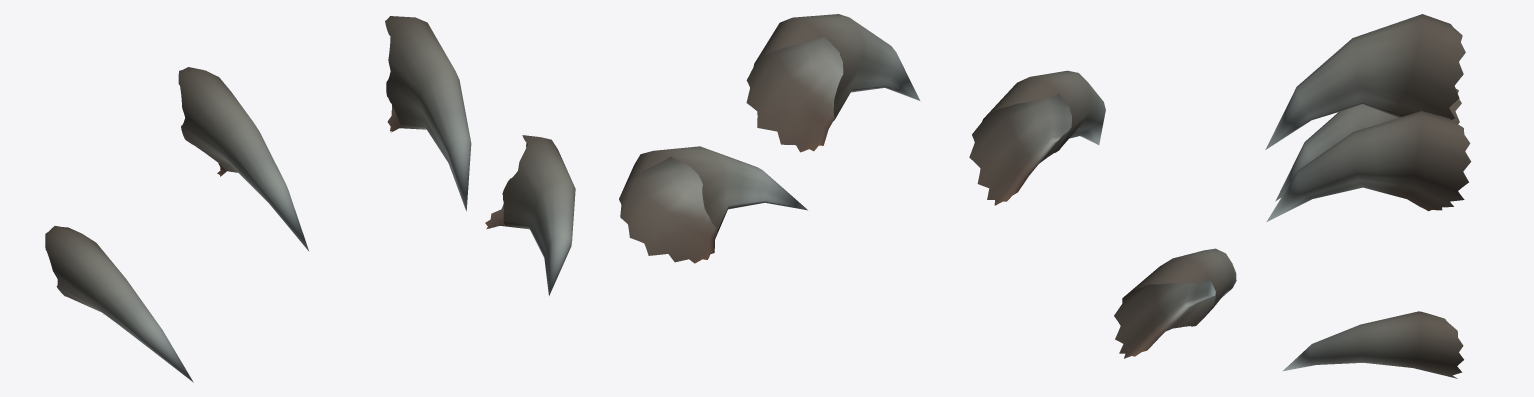
File: S_Claws.fbx
3 views of the same model, side by side, from view 1: azimuth 30°, elevation 25°; view 2: azimuth 150°, elevation 25°; view 3: azimuth 270°, elevation 25° (orthographic). The views are drawn at different scales.
Parts seen in each view (by area): view 1: Cone.002, Cone.001, Cone.004, Cone; view 2: Cone.002, Cone.004, Cone.001, Cone; view 3: Cone.001, Cone.002, Cone.004, Cone.
Part boxes in pixels (box(x1,y1,x2,y2)): Cone.002: box(385, 16, 471, 211); Cone.001: box(178, 67, 308, 250); Cone.004: box(485, 135, 575, 295); Cone: box(45, 226, 193, 382); Cone.002: box(746, 14, 920, 152); Cone.004: box(619, 146, 807, 263); Cone.001: box(969, 70, 1105, 205); Cone: box(1114, 248, 1236, 358); Cone.001: box(1265, 14, 1465, 149); Cone.002: box(1266, 111, 1471, 221); Cone.004: box(1282, 311, 1463, 378); Cone: box(1275, 89, 1461, 201).
Bounding box in the file's own units: 8.16 × 3.7 × 3.7.
